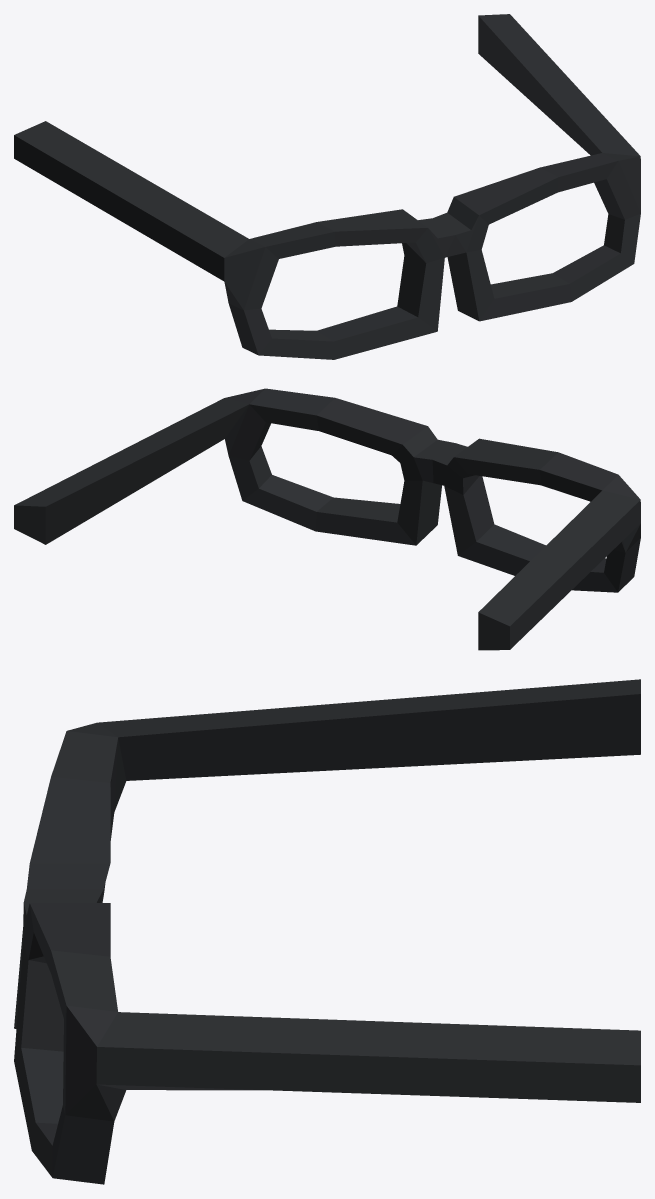
Rendered from SM_Chr_Inspector_Female_Glasses_01.fbx.
The picture shows the model from 3 angles, top to bottom: view 1: azimuth 30°, elevation 25°; view 2: azimuth 150°, elevation 25°; view 3: azimuth 270°, elevation 25°; orthographic projection. The views are drawn at different scales.
Parts seen in each view (by area): view 1: SM_Chr_Inspector_Female_Glasses_01; view 2: SM_Chr_Inspector_Female_Glasses_01; view 3: SM_Chr_Inspector_Female_Glasses_01.
Part boxes in pixels (bbox=[...]): SM_Chr_Inspector_Female_Glasses_01: bbox=[14, 14, 640, 359]; SM_Chr_Inspector_Female_Glasses_01: bbox=[14, 388, 640, 650]; SM_Chr_Inspector_Female_Glasses_01: bbox=[14, 679, 640, 1184].
Size of the model in its own units: 24.19 by 5.92 by 16.6.
